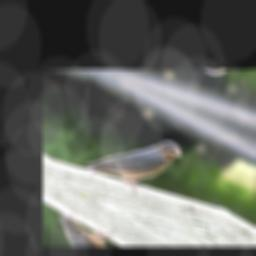Swallow: (81, 116, 187, 203)
